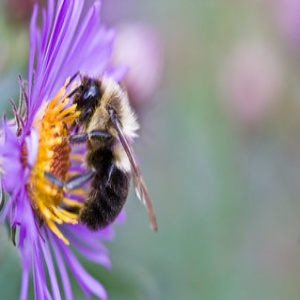bee: (64, 69, 159, 249)
